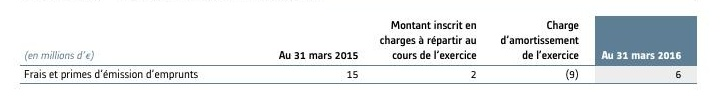table: (0, 0, 723, 100)
